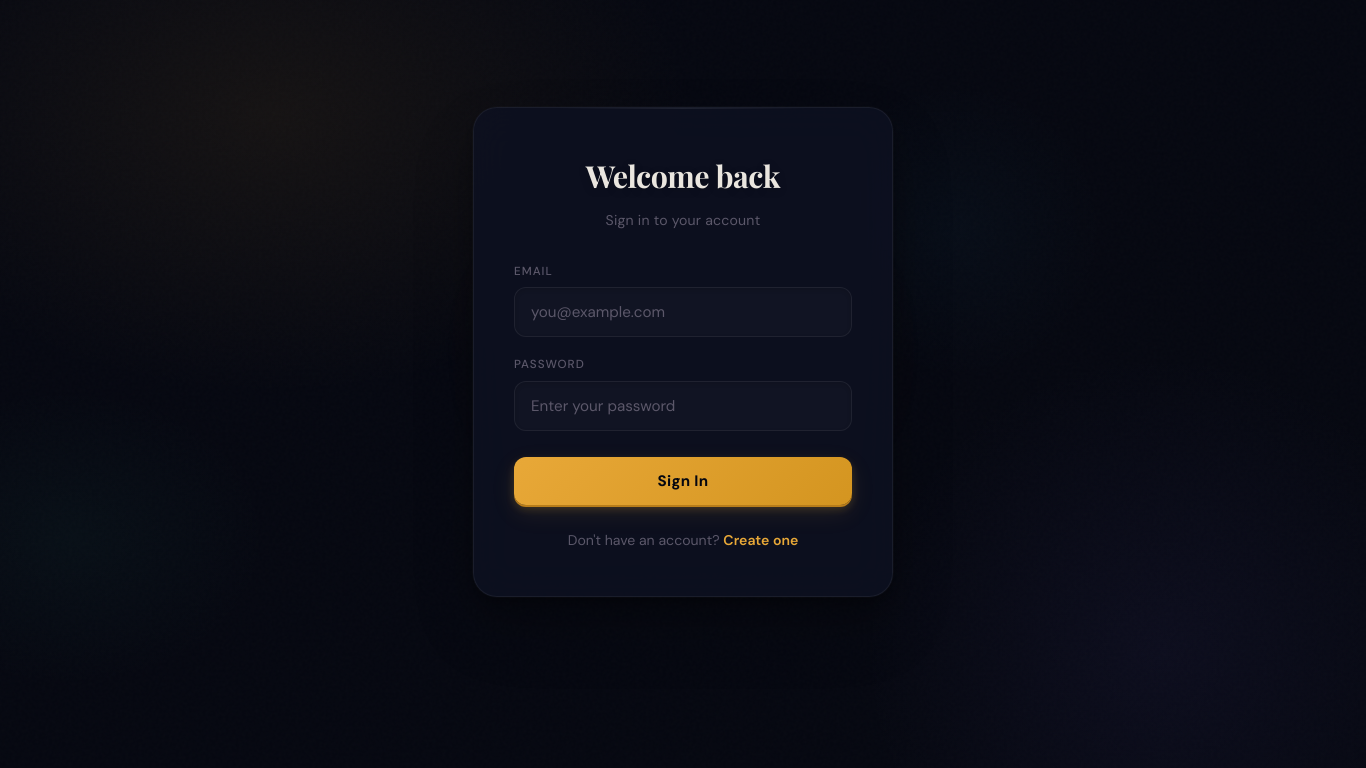
Login › shows button loading state during submit
Type "a@b.com" into the field with placeholder "you@example.com" at coordinates (683, 312), box [514,287,852,337]
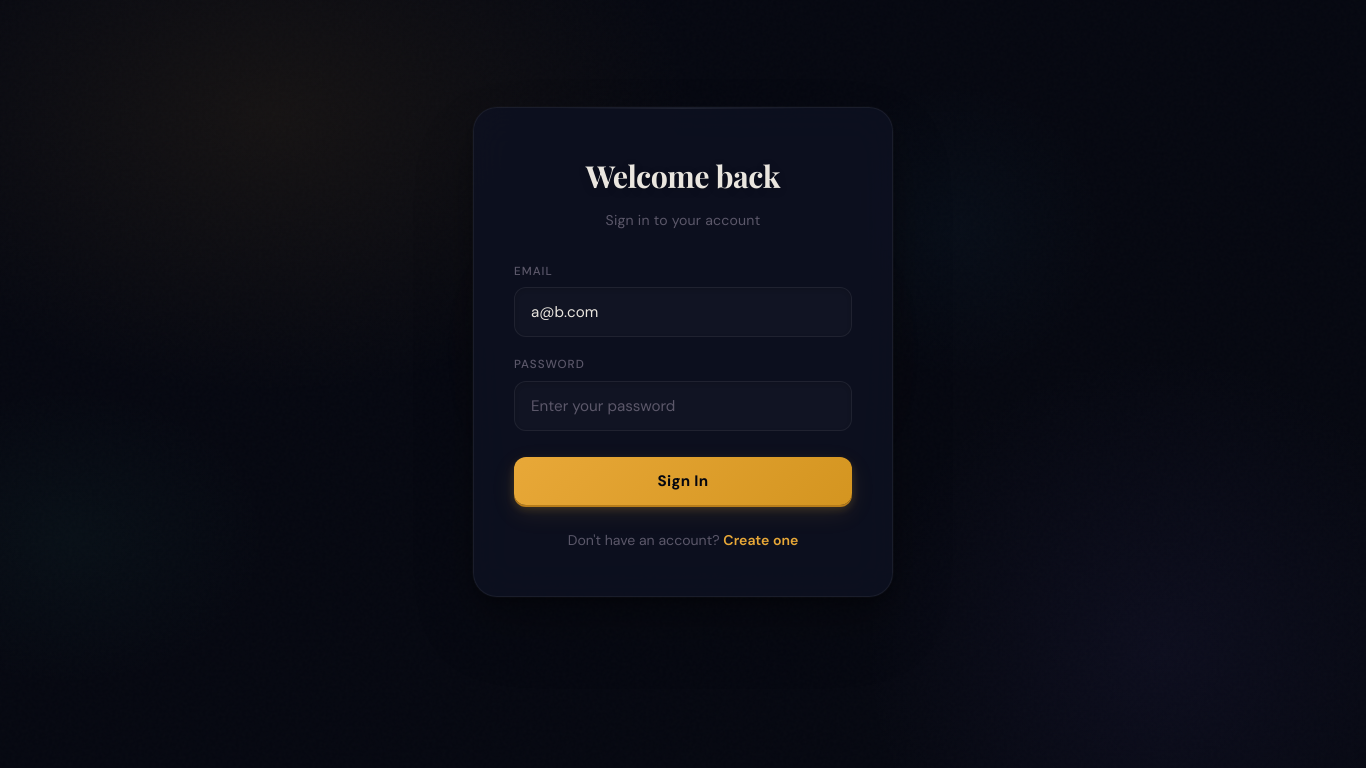
Type "123456" into the password field with placeholder "Enter your password" at coordinates (683, 406), box [514,381,852,431]
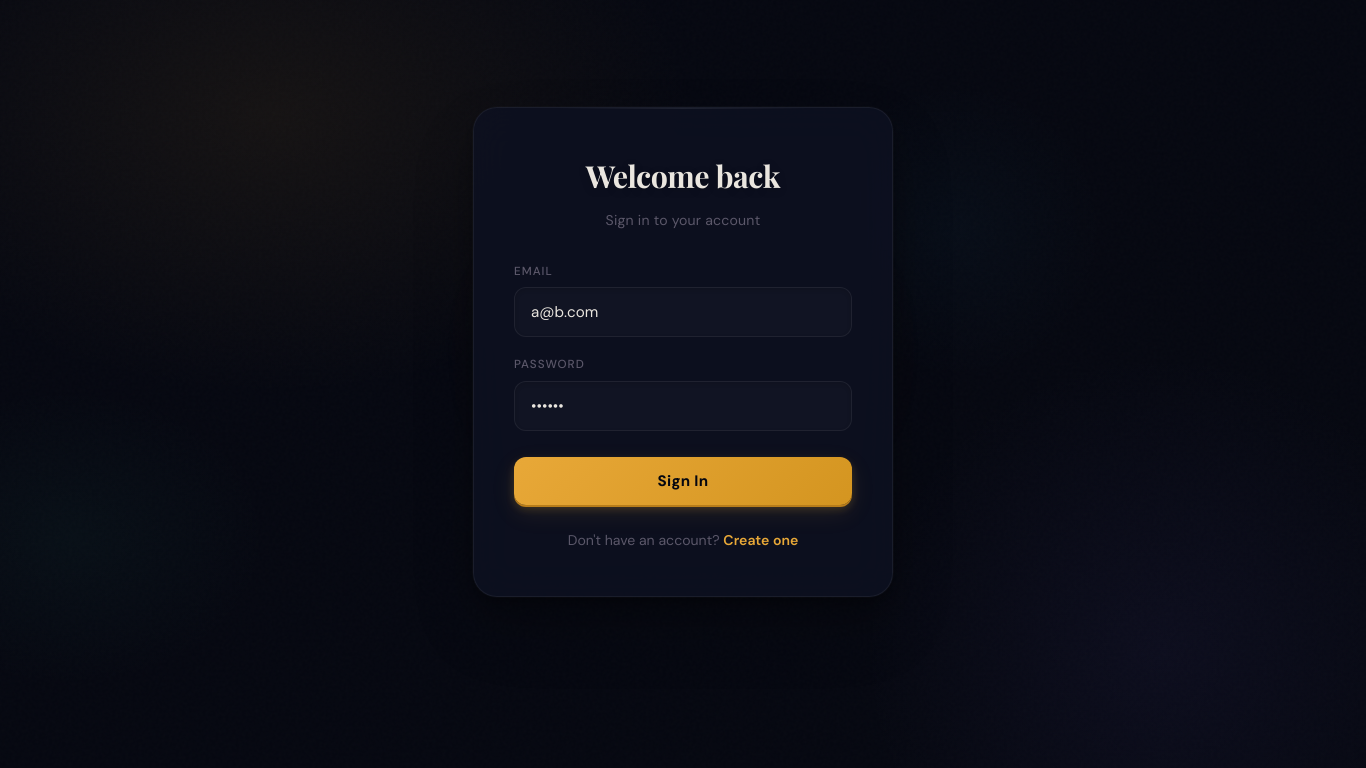
Click the button "Sign In" at coordinates (683, 481), box [514,457,852,505]
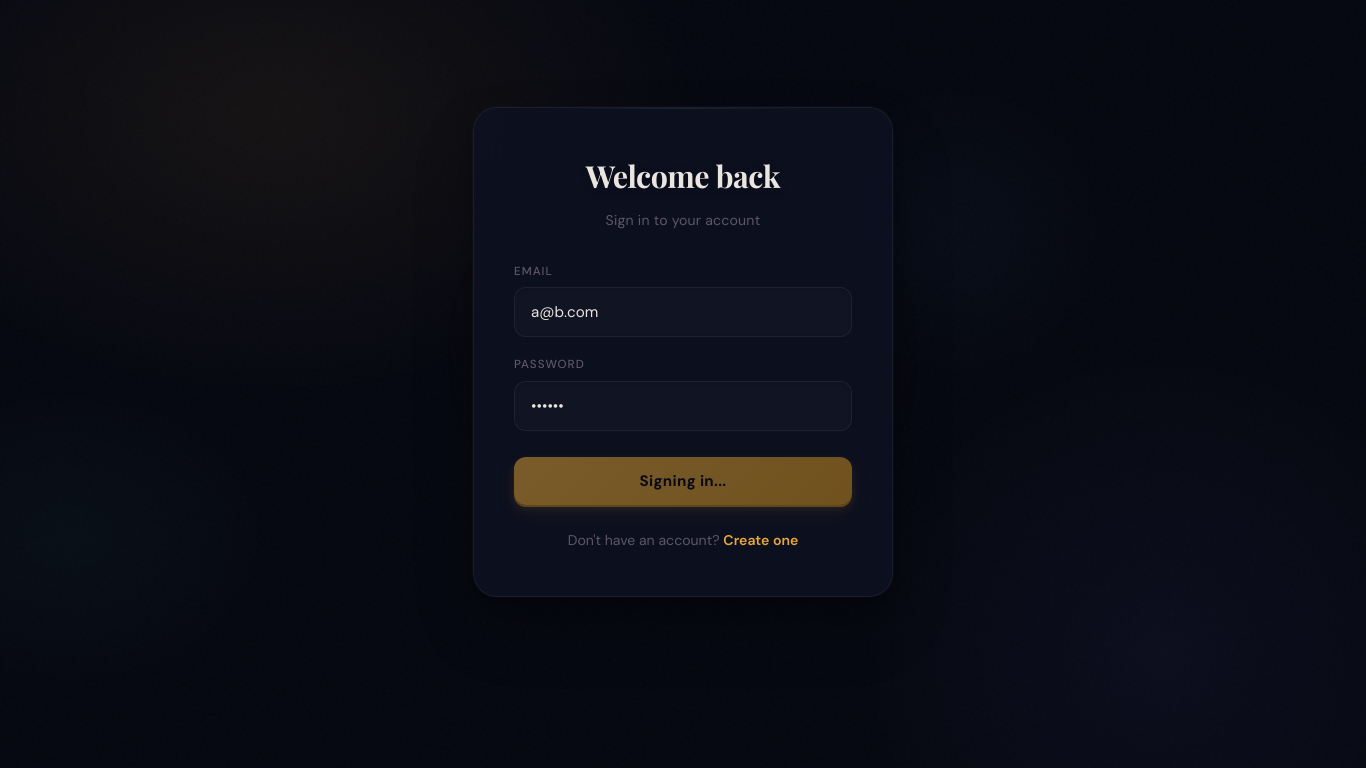
Check: the button "Signing in..." is shown, box [514,457,852,505]
